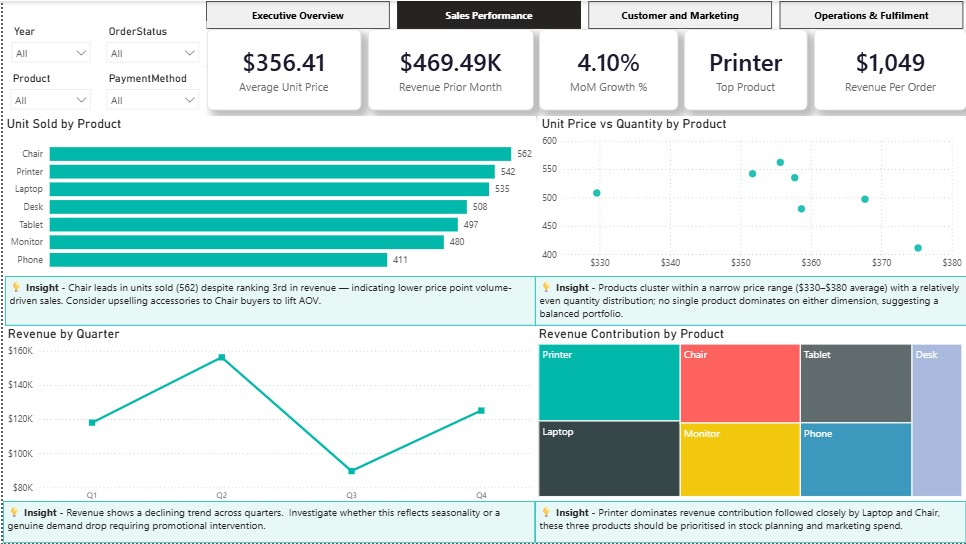

The dashboard page shown, as its layout file describes it:
{"tool":"powerbi","page":{"name":"Sales Performance","canvas":[1280,720],"ordinal":1},"visuals":[{"type":"cardVisual","fields":{"Data":["_Measures.Average Unit Price"]},"box":[270.4,37.3,204.6,107.6],"z":0},{"type":"cardVisual","fields":{"Data":["_Measures.Revenue Prior Month"]},"box":[485.5,37.3,219.6,107.6],"z":1000},{"type":"cardVisual","fields":{"Data":["_Measures.MoM Growth %"]},"box":[712.5,37.3,185.2,107.6],"z":2000},{"type":"cardVisual","fields":{"Data":["_Measures.Top Product"]},"box":[905.2,37.3,164.3,107.6],"z":3000},{"type":"cardVisual","fields":{"Data":["_Measures.Aerage Order Value"]},"box":[1077,37.3,203.2,107.6],"z":4000},{"type":"pageNavigator","box":[269.7,0,1009.6,37.2],"z":5000},{"type":"slicer","fields":{"Values":["DateDim.Year"]},"box":[1.5,26.9,125.5,59.8],"z":6000},{"type":"slicer","fields":{"Values":["Order.Product"]},"box":[0,89.6,127,55.3],"z":7000},{"type":"slicer","fields":{"Values":["Order.OrderStatus"]},"box":[127,26.9,143.4,58.3],"z":8000},{"type":"slicer","fields":{"Values":["Order.PaymentMethod"]},"box":[127,89.6,143.4,55.3],"z":9000},{"type":"clusteredBarChart","title":"Unit Sold by Product","fields":{"Category":["Order.Product"],"Y":["_Measures.Total Unit Sold"]},"box":[0,152.4,708,215.1],"z":10000},{"type":"lineChart","title":"Revenue by Quarter","fields":{"Category":["DateDim.Quarter"],"Y":["_Measures.Total Revenue"]},"box":[1.5,431.7,708,243.5],"z":11000},{"type":"scatterChart","title":"Unit Price vs Quantity by Product","fields":{"X":["_Measures.Average Unit Price"],"Y":["_Measures.Total Unit Sold"],"Category":["Order.Product"]},"box":[711,152.4,567.6,213.6],"z":12000},{"type":"treemap","title":"Revenue Contribution by Product","fields":{"Group":["Order.Product"],"Values":["_Measures.Total Revenue"]},"box":[706.6,431.7,572.1,231.5],"z":13000},{"type":"textbox","box":[3,366,705.1,65.7],"z":14000},{"type":"textbox","box":[0,663.6,707.1,56.4],"z":15000},{"type":"textbox","box":[706.6,366,573.6,65.7],"z":16000},{"type":"textbox","box":[707.1,663.6,572.9,56.4],"z":17000}]}

Visuals, with their boxes in screenshot pixels (x1, y1, x2, y2), scaled from the page's 1280x720 canvas onto the 966x544 screenshot:
cardVisual - _Measures.Average Unit Price: x1=204 y1=28 x2=358 y2=109
cardVisual - _Measures.Revenue Prior Month: x1=366 y1=28 x2=532 y2=109
cardVisual - _Measures.MoM Growth %: x1=538 y1=28 x2=677 y2=109
cardVisual - _Measures.Top Product: x1=683 y1=28 x2=807 y2=109
cardVisual - _Measures.Aerage Order Value: x1=813 y1=28 x2=965 y2=109
pageNavigator: x1=204 y1=0 x2=965 y2=28
slicer - DateDim.Year: x1=1 y1=20 x2=96 y2=66
slicer - Order.Product: x1=0 y1=68 x2=96 y2=109
slicer - Order.OrderStatus: x1=96 y1=20 x2=204 y2=64
slicer - Order.PaymentMethod: x1=96 y1=68 x2=204 y2=109
"Unit Sold by Product" clusteredBarChart: x1=0 y1=115 x2=534 y2=278
"Revenue by Quarter" lineChart: x1=1 y1=326 x2=535 y2=510
"Unit Price vs Quantity by Product" scatterChart: x1=537 y1=115 x2=965 y2=277
"Revenue Contribution by Product" treemap: x1=533 y1=326 x2=965 y2=501
textbox: x1=2 y1=277 x2=534 y2=326
textbox: x1=0 y1=501 x2=534 y2=543
textbox: x1=533 y1=277 x2=965 y2=326
textbox: x1=534 y1=501 x2=965 y2=543
